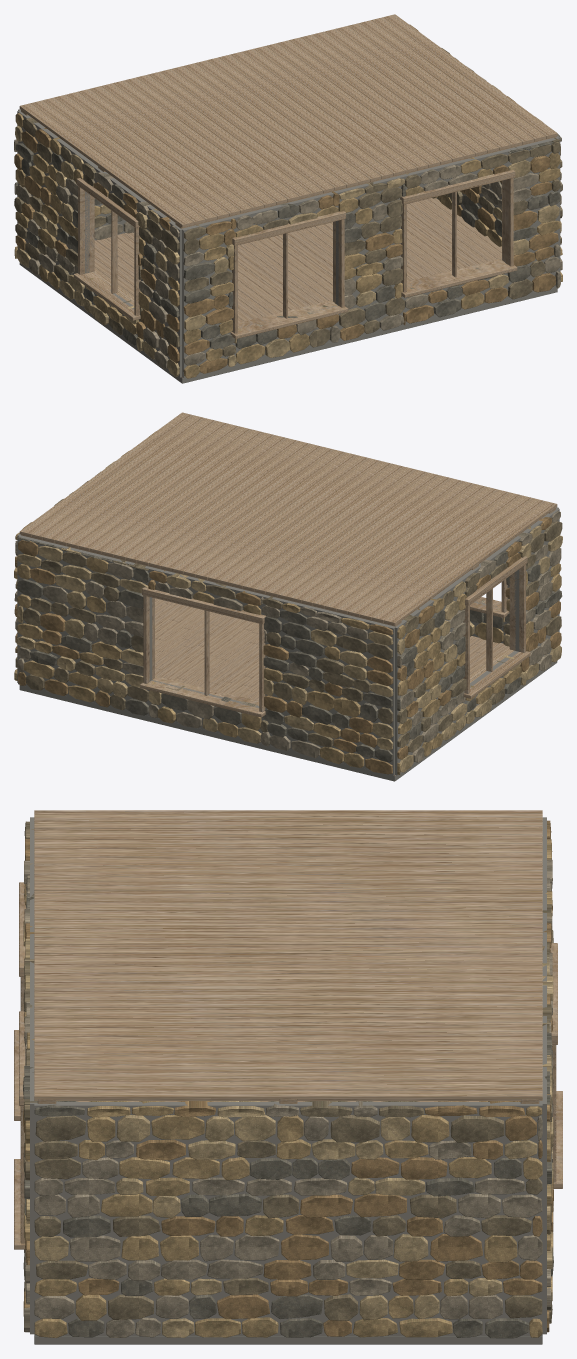
The model's file is stone-room.glb.
3 renders of one model, top to bottom at view 1: azimuth 30°, elevation 25°; view 2: azimuth 150°, elevation 25°; view 3: azimuth 270°, elevation 25°, orthographic. The views are drawn at different scales.
Parts seen in each view (by area): view 1: Architecture, Ceiling; view 2: Architecture, Ceiling; view 3: Ceiling, Architecture.
Part boxes in pixels (x1,y1,x2,y2): Architecture: [14, 24, 562, 383]; Ceiling: [19, 14, 557, 228]; Architecture: [14, 431, 562, 781]; Ceiling: [19, 412, 557, 626]; Ceiling: [34, 810, 542, 1103]; Architecture: [14, 817, 562, 1344].
Size of the model in its own units: 8.38 by 3.24 by 6.48.
Materials: 10 (9 with a texture image).
